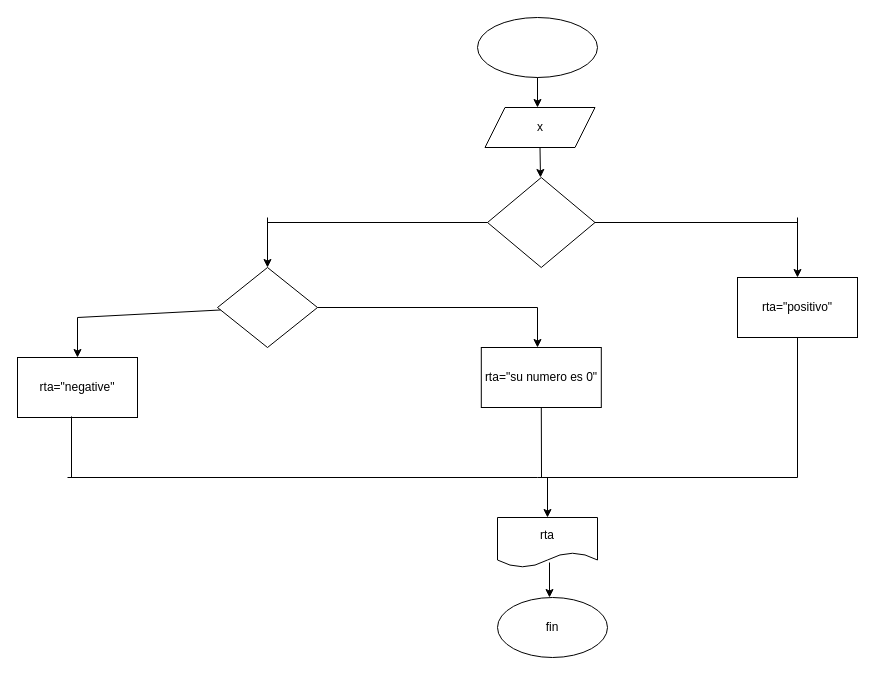
The diagram is 875 pixels wide and 675 high, and some of its shapes have lost their labels. Each missing label, with the centre of its shape:
"inicio" goes at [537,47].
"x > 0" goes at [540,222].
"x==0" goes at [267,307].
